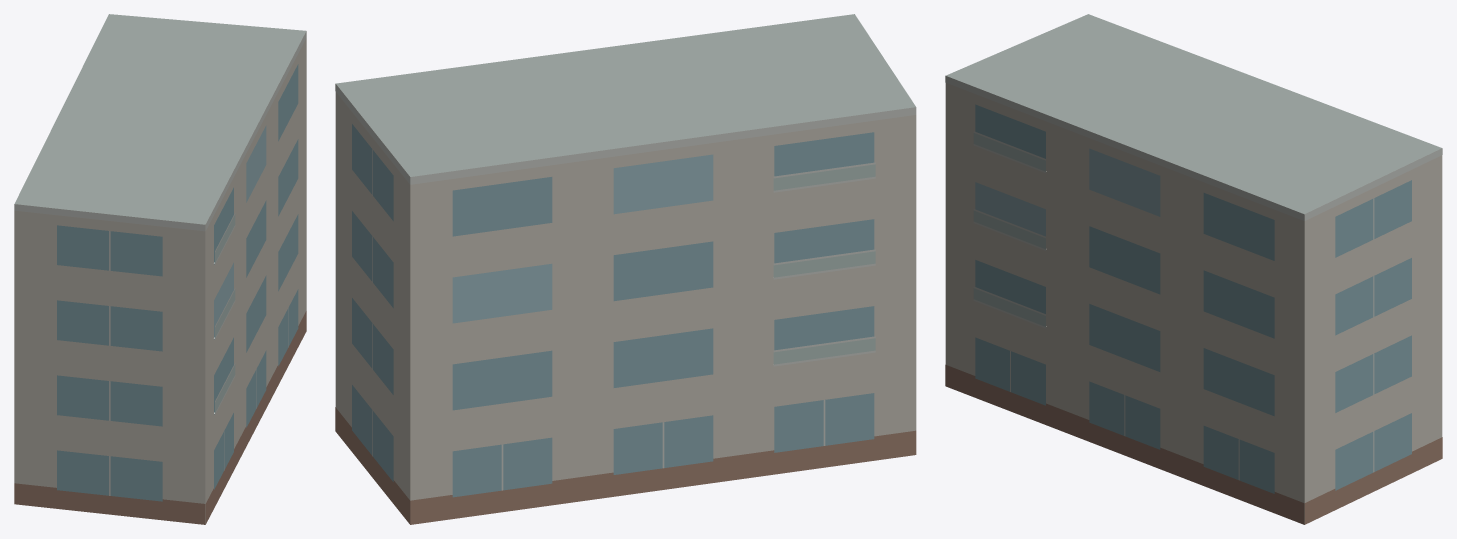
File: survey-upis-33018962.glb
3 renders of one model, left to right at view 1: azimuth 30°, elevation 25°; view 2: azimuth 150°, elevation 25°; view 3: azimuth 270°, elevation 25°, orthographic. The views are drawn at different scales.
Visible parts, largest first — view 1: survey-upis-33018962.tmp; view 2: survey-upis-33018962.tmp; view 3: survey-upis-33018962.tmp.
Boxes of the visible parts, <box> form: survey-upis-33018962.tmp: <box>14,14,306,524</box>; survey-upis-33018962.tmp: <box>335,14,916,524</box>; survey-upis-33018962.tmp: <box>945,14,1442,524</box>.
Size of the model in its own units: 15.22 by 11 by 15.96.
